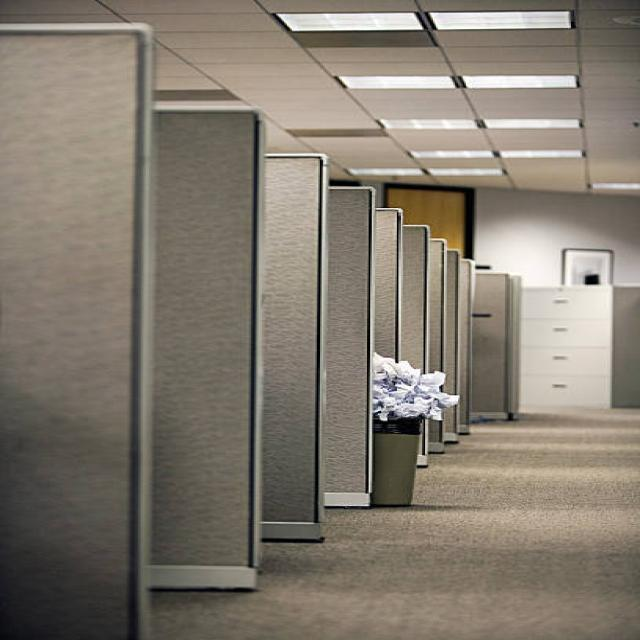metal: (370, 426, 450, 518)
paper: (362, 364, 452, 424)
